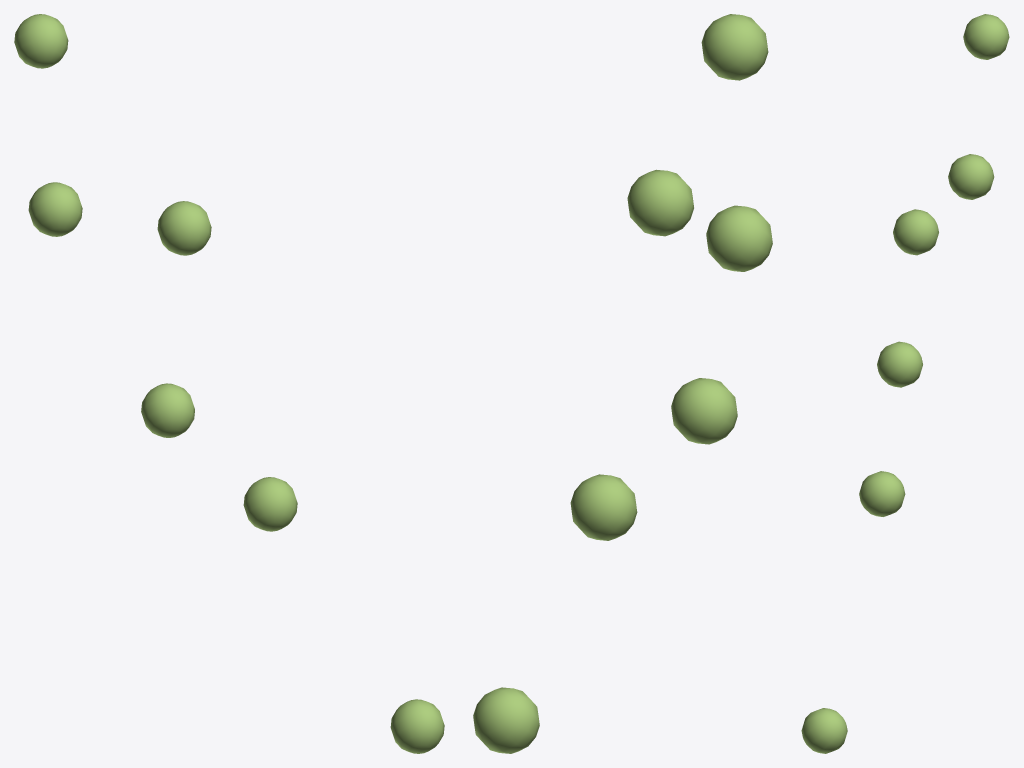
File: cubital-nodes-l.glb
3 renders of one model, left to right at view 1: azimuth 30°, elevation 25°; view 2: azimuth 150°, elevation 25°; view 3: azimuth 270°, elevation 25°, orthographic. The views are drawn at different scales.
Visible parts, largest first — view 1: Cubital nodes.l; view 2: Cubital nodes.l; view 3: Cubital nodes.l.
Boxes of the visible parts, left/top/right/bottom form: Cubital nodes.l: left=14, top=14, right=444, bottom=753; Cubital nodes.l: left=473, top=14, right=772, bottom=753; Cubital nodes.l: left=801, top=14, right=1009, bottom=753.
Bounding box in the file's own units: 0.0179 × 0.0384 × 0.0117.
